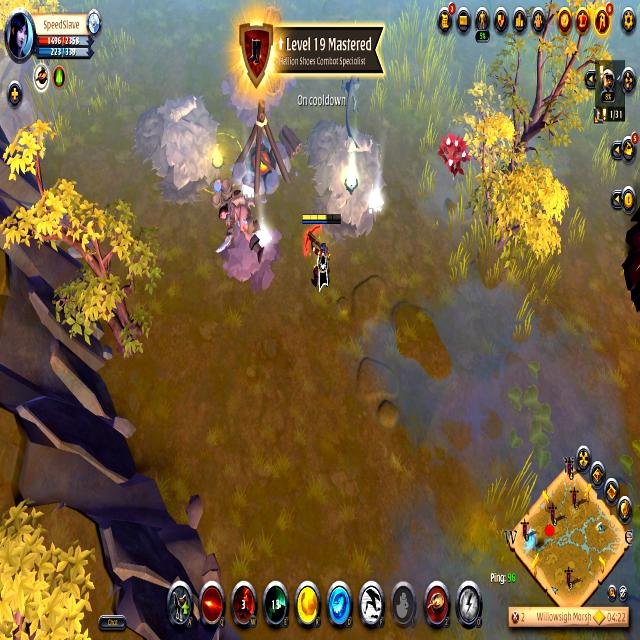hide: (437, 128, 469, 183)
ore: (340, 76, 372, 159)
red: (301, 212, 338, 296)
stone: (366, 192, 389, 219), (240, 182, 259, 207), (255, 222, 271, 250)
